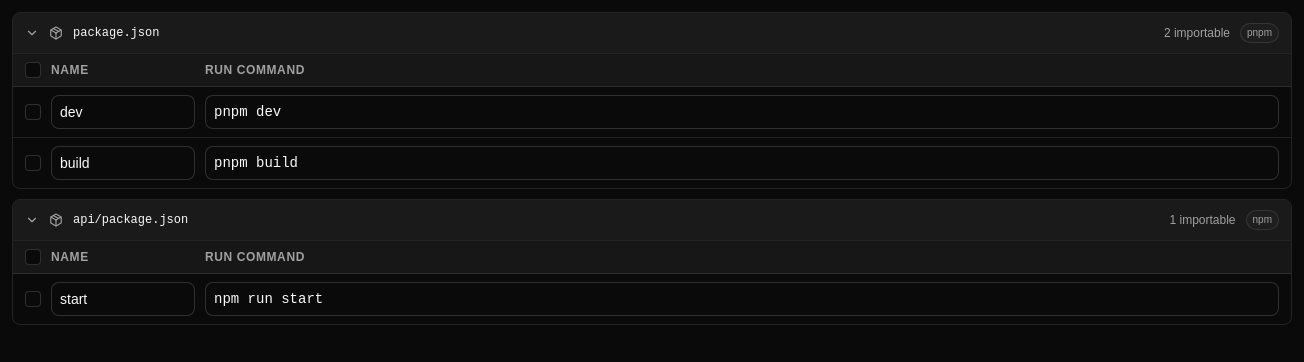
it: <CommandImportSection> (import from package.json) › flags an inline collision when a selected name already exists in the project
Click the checkbox named "Select script dev": [33, 112] box [25,104,41,120]
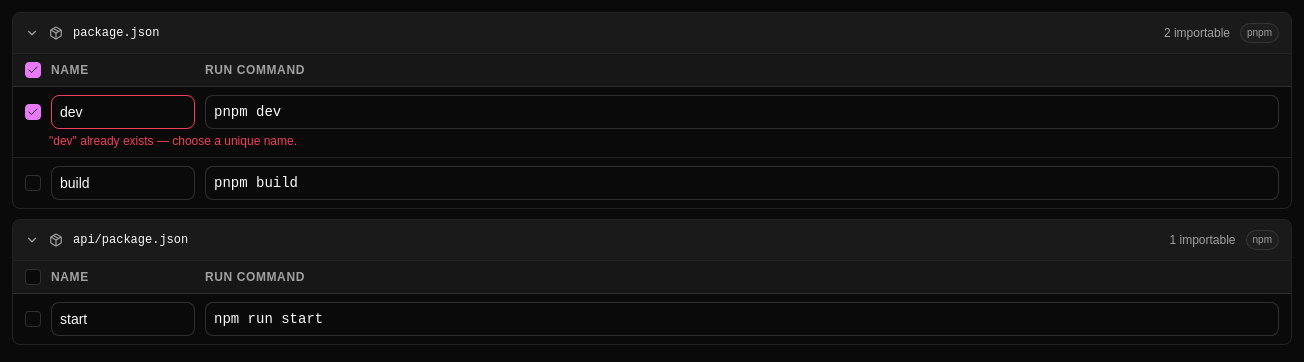
Expected: the message with test id "collision-error" shows "already exists", [49,134,297,148]
